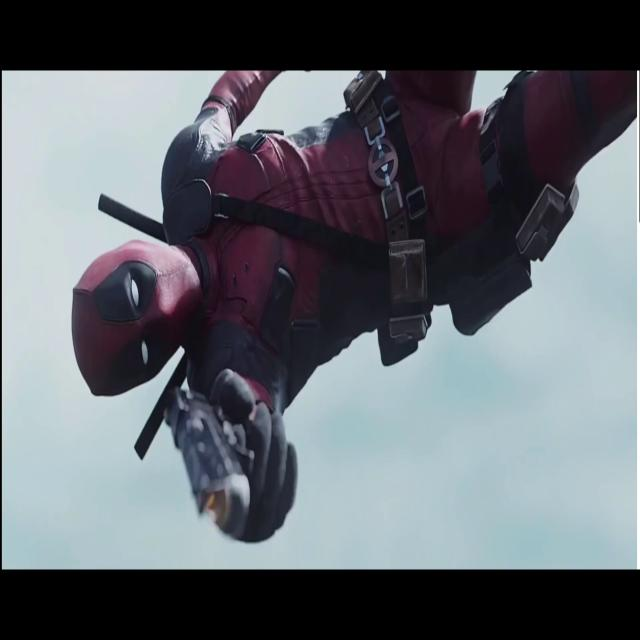weapons: (147, 356, 296, 546)
